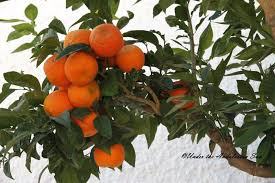orange: (66, 53, 98, 85), (90, 25, 123, 56), (41, 54, 70, 87), (39, 91, 72, 120), (163, 82, 196, 111), (115, 43, 145, 73), (92, 142, 126, 168), (72, 110, 102, 138), (67, 85, 101, 108)
